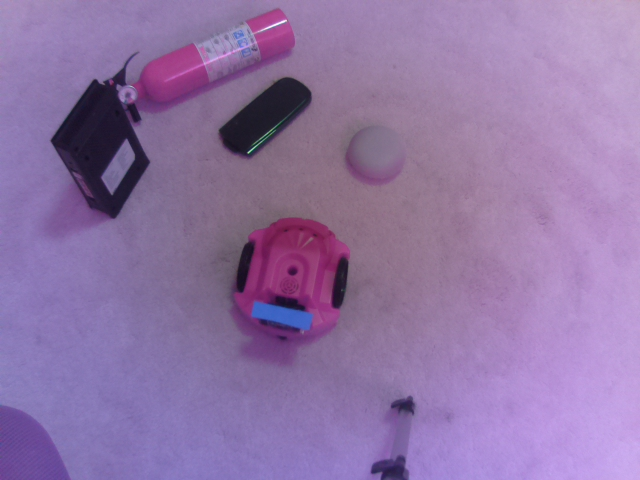board: (246, 297, 317, 342)
chassis: (229, 206, 353, 346)
